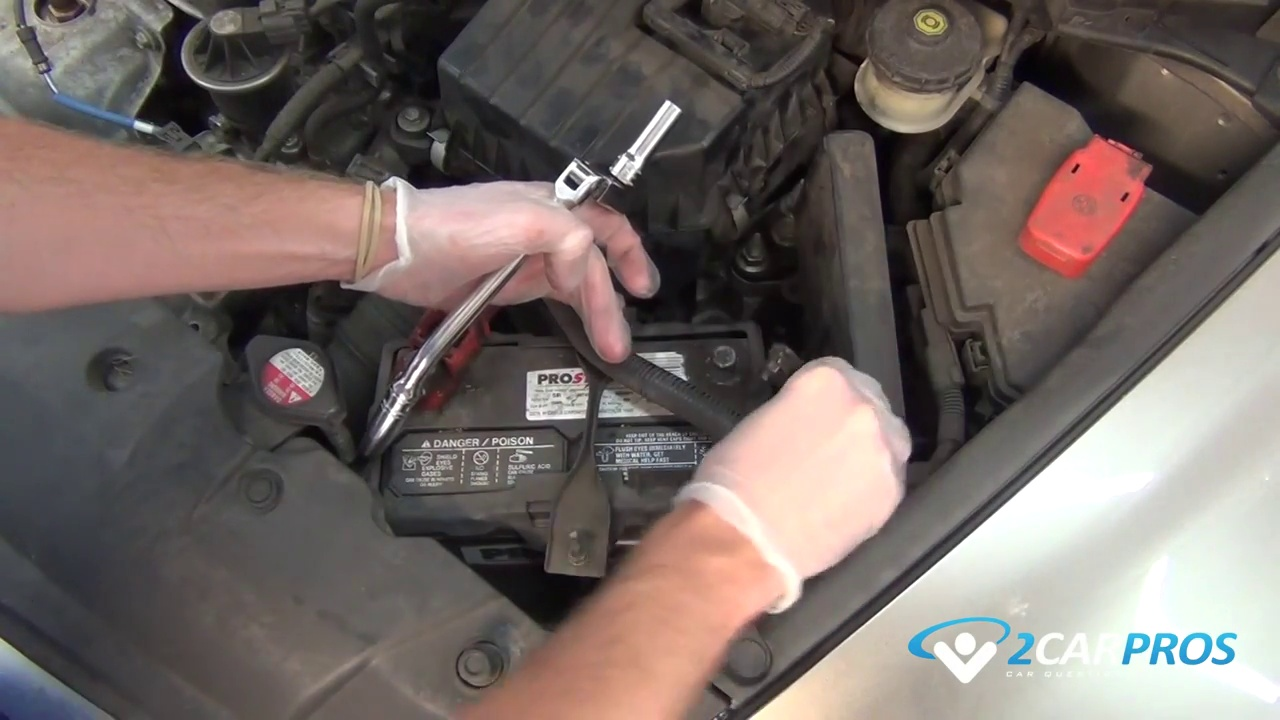battery: (374, 328, 783, 535)
neg_disconnected: (694, 331, 758, 393)
pos_touched: (371, 203, 534, 429)
